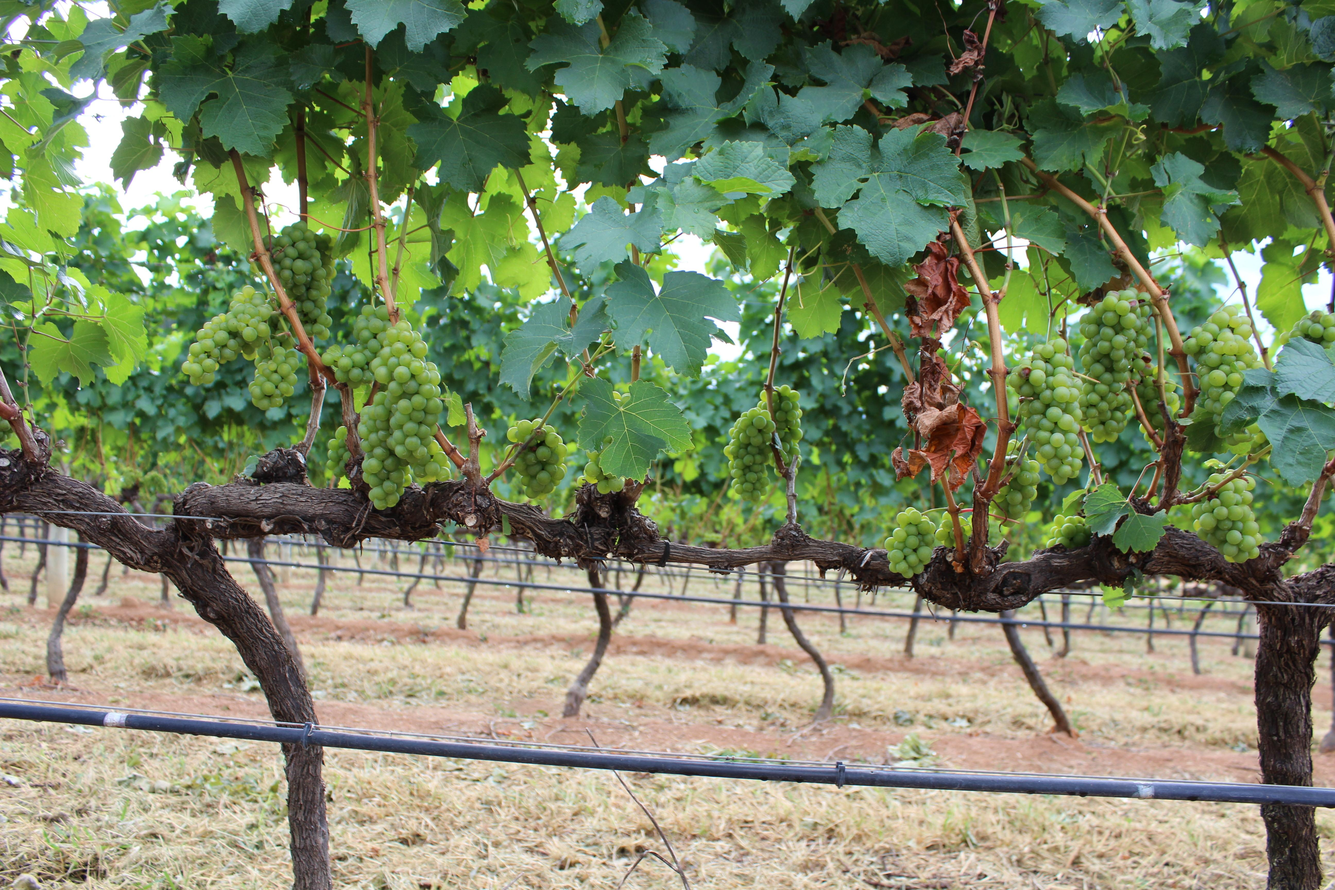leaf: (606, 262, 740, 376), (526, 11, 666, 114), (407, 84, 530, 192), (579, 378, 691, 479), (1151, 152, 1238, 247), (70, 2, 171, 80), (561, 196, 662, 269), (346, 0, 466, 52), (693, 141, 795, 197), (27, 320, 115, 384), (1273, 337, 1335, 403), (1126, 0, 1201, 50), (110, 117, 163, 187), (1038, 0, 1123, 42), (961, 130, 1023, 171), (218, 0, 293, 33), (1113, 512, 1167, 552), (743, 240, 744, 259), (1235, 399, 1236, 400)
